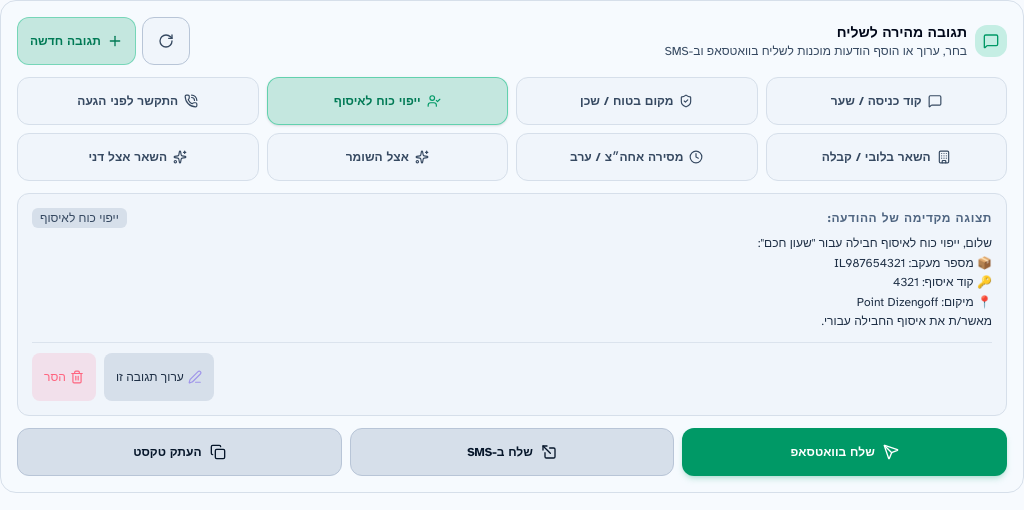
Test: CourierActionHub › gate code input has accessible aria-label
Step 1. Click the tab "קוד כניסה / שער" → (886, 101), box [766,77,1007,125]
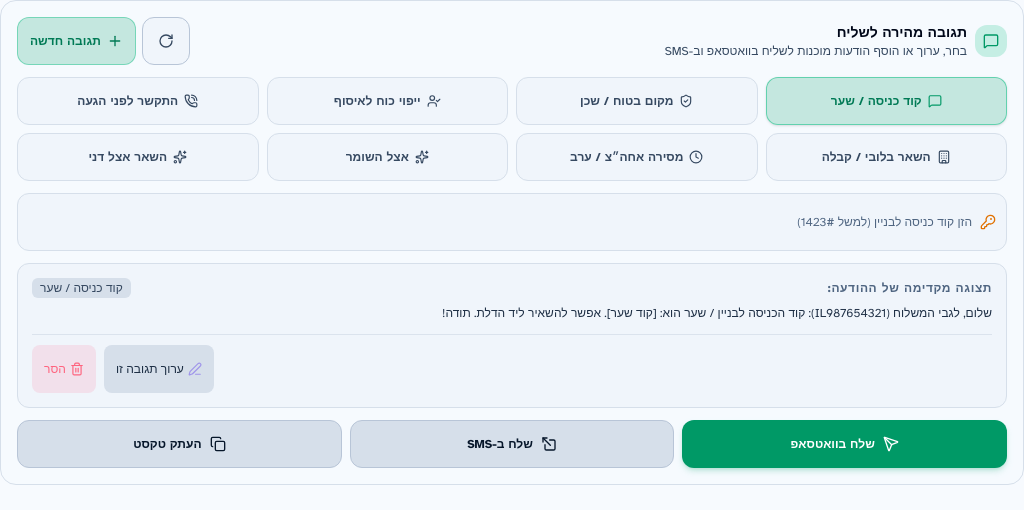
Check: the field named "קוד כניסה לשער" is shown, box [28,204,972,240]
